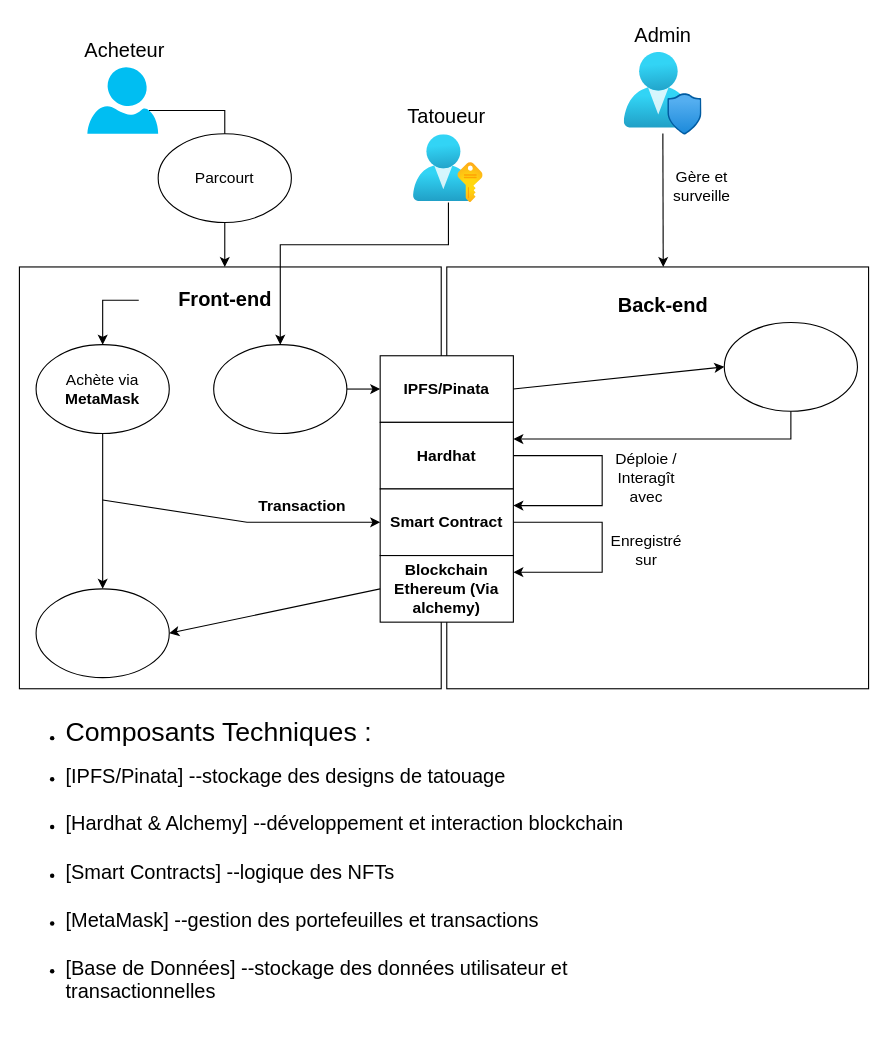
This 888x1052 diagram has some shape labels left out. The shapes that lost their labels are listed below. From the top down, each one's centre as x and y in pixels, then its label:
(x=790, y=366): Crée NFT avec hash IPFS
(x=280, y=388): Upload design
(x=102, y=633): NFT créé et listé
